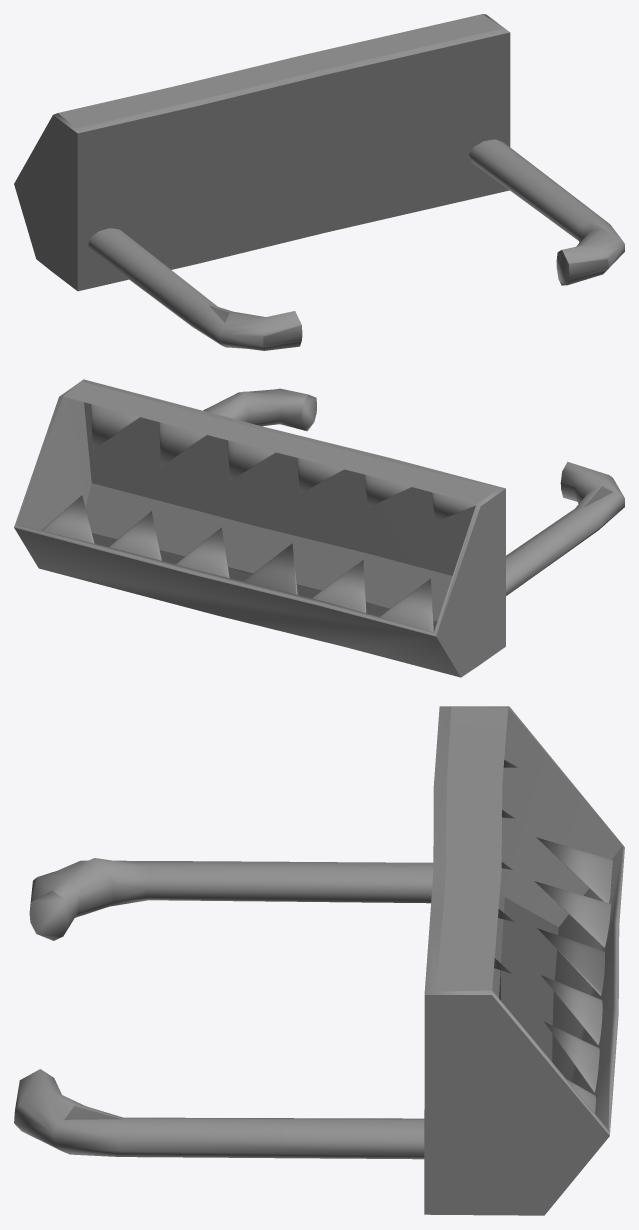
Rendered from Pala_BulldozerZone3.fbx.
The picture shows the model from 3 angles, top to bottom: view 1: azimuth 30°, elevation 25°; view 2: azimuth 150°, elevation 25°; view 3: azimuth 270°, elevation 25°; orthographic projection. The views are drawn at different scales.
Visible parts, largest first — view 1: Pala_Zona3; view 2: Pala_Zona3; view 3: Pala_Zona3.
Part boxes in pixels (<box>): Pala_Zona3: <box>14,14,624,350</box>; Pala_Zona3: <box>14,379,624,677</box>; Pala_Zona3: <box>14,706,624,1215</box>.
Size of the model in its own units: 1012 by 360 by 895.
Materials: 1 (1 with a texture image).
